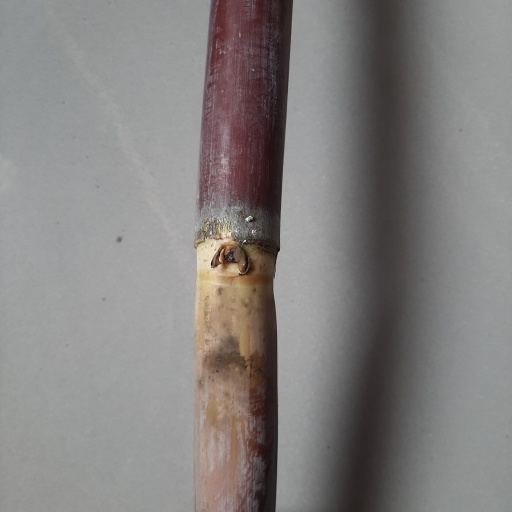Damage_Bud: (210, 243, 249, 278)
